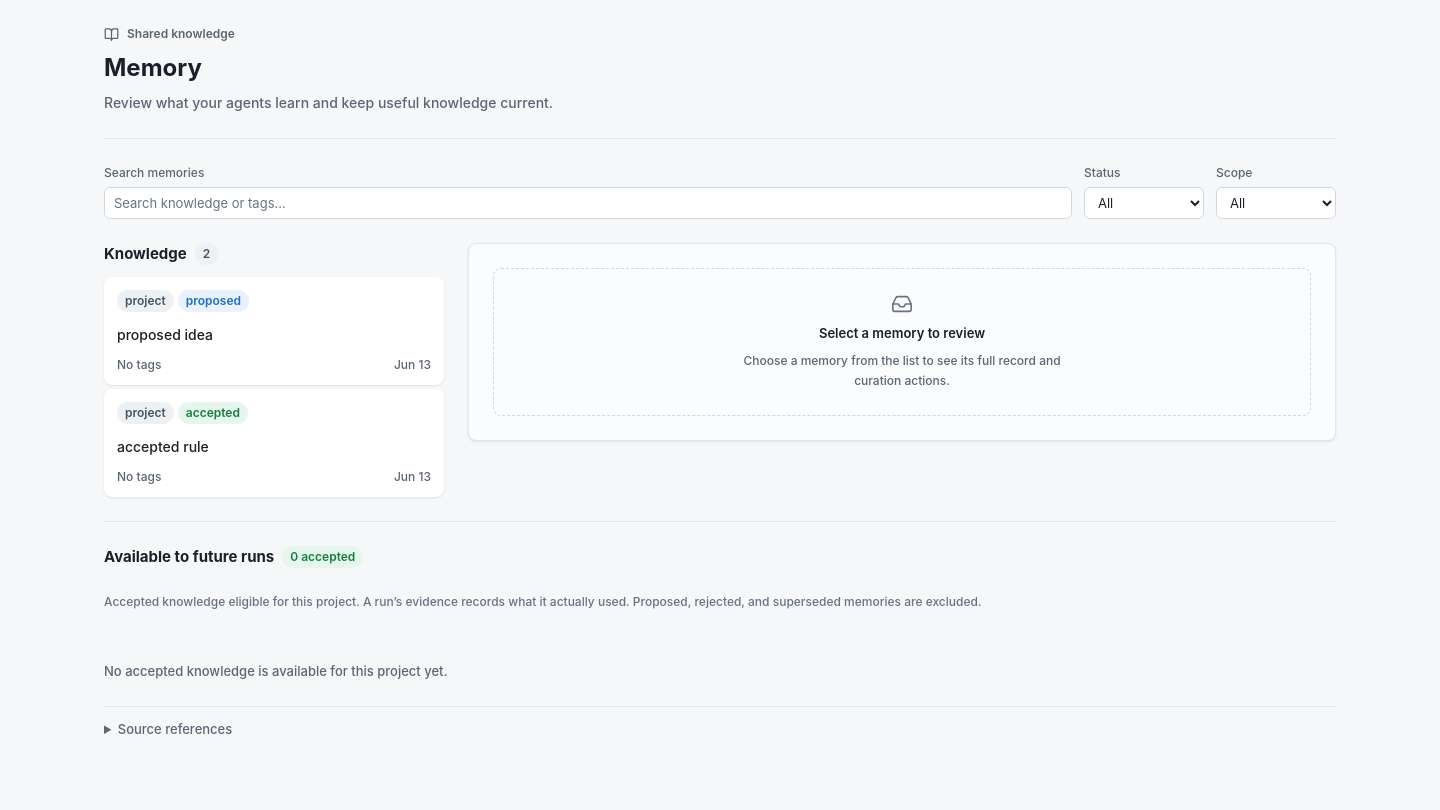
Test: MemoryPage › filters the list by status
Expected: the text "proposed idea" is shown, [117,324,213,345]
Select "accepted" in the dropdown labelled "Status" at (1144, 203), box [1084,187,1204,219]
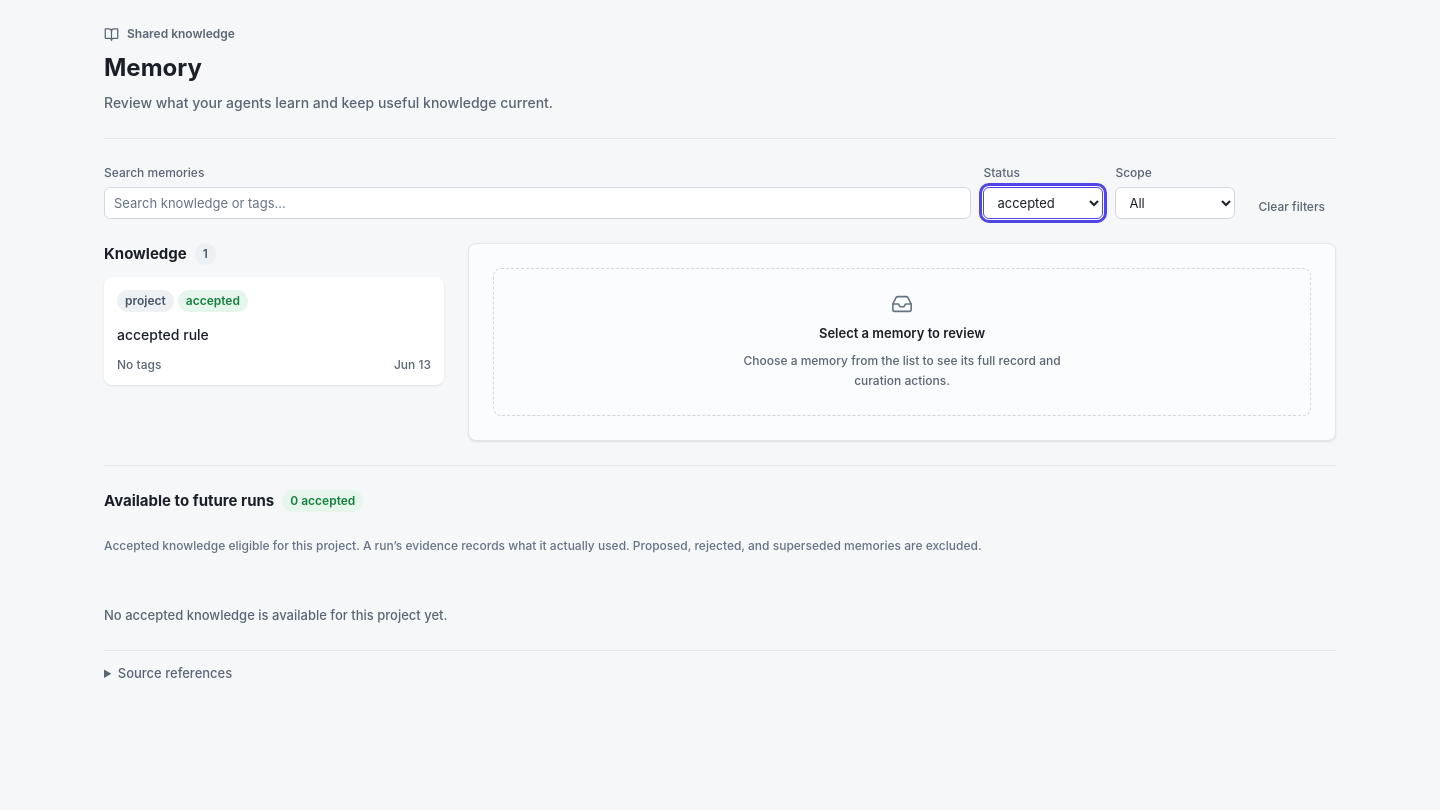
Expected: the text "accepted rule" is shown, [117,324,209,345]
Now the button "proposed idea" is gone
